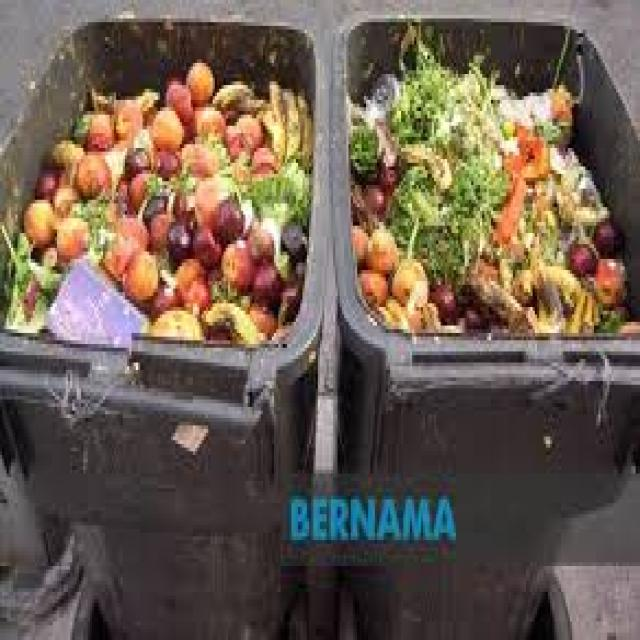Organik: (1, 44, 308, 339), (347, 40, 640, 337), (15, 177, 113, 266), (350, 93, 396, 195)
